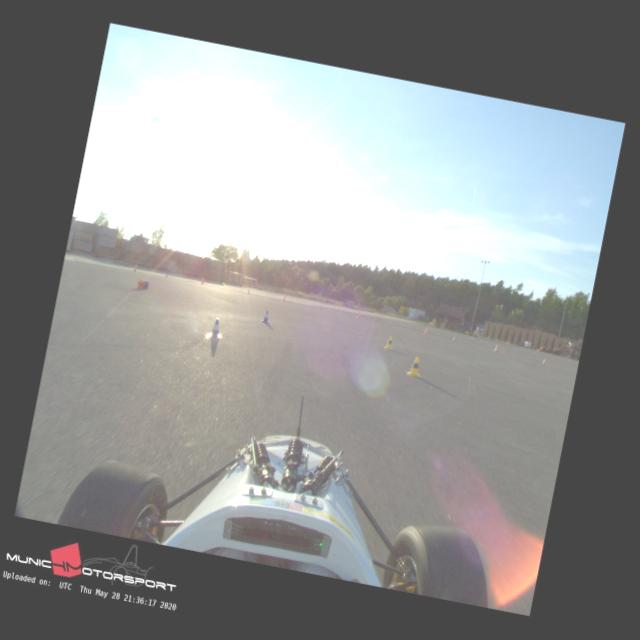blue_cone: (207, 317, 225, 339), (260, 310, 272, 324)
yellow_cone: (406, 356, 425, 378), (384, 336, 396, 351)
